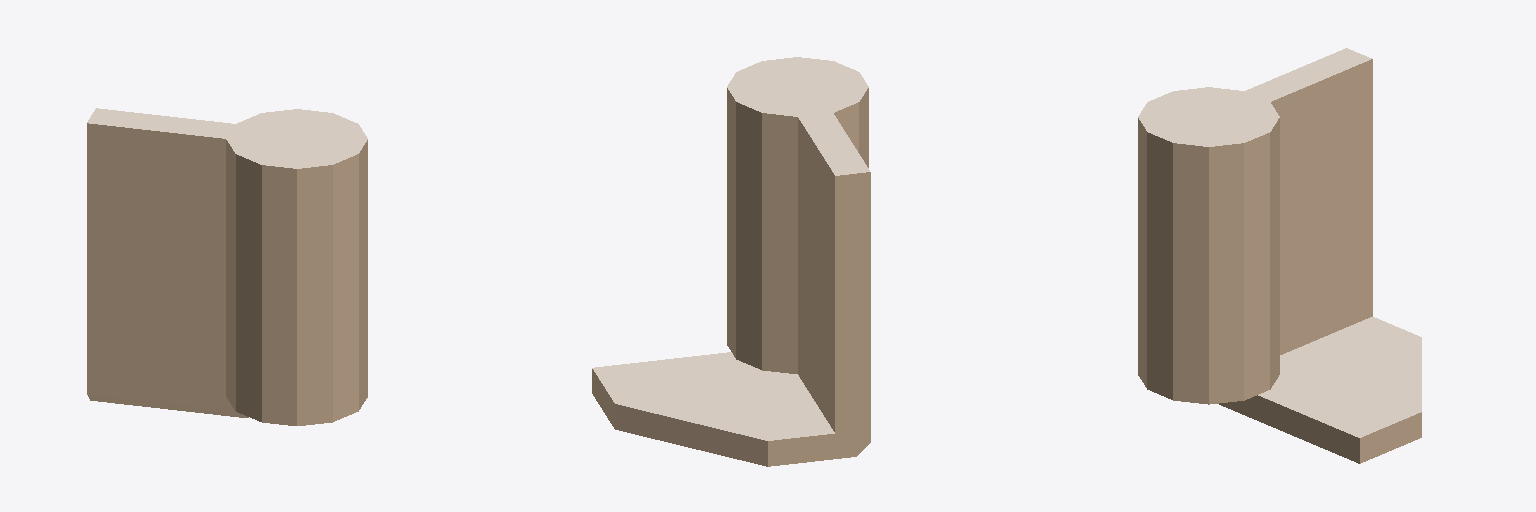
The model's file is Tower_Top.obj.
3 renders of one model, left to right at view 1: azimuth 30°, elevation 25°; view 2: azimuth 150°, elevation 25°; view 3: azimuth 270°, elevation 25°, orthographic.
Parts seen in each view (by area): view 1: object3, object1; view 2: object3, object1, object2; view 3: object3, object1, object2.
Boxes of the visible parts, x1,y1,x2,y2 form: object3: [226, 109, 367, 425]; object1: [87, 108, 253, 417]; object3: [727, 57, 868, 373]; object1: [798, 113, 870, 458]; object2: [592, 352, 834, 466]; object3: [1138, 87, 1279, 404]; object1: [1232, 48, 1372, 354]; object2: [1219, 317, 1421, 463].
Bounding box in the file's own units: 2.21 × 2.2 × 2.